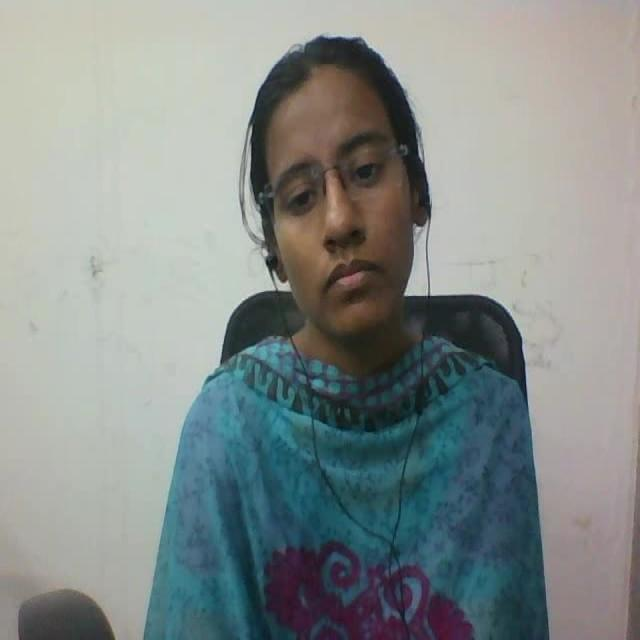Engaged: (226, 20, 464, 370)
